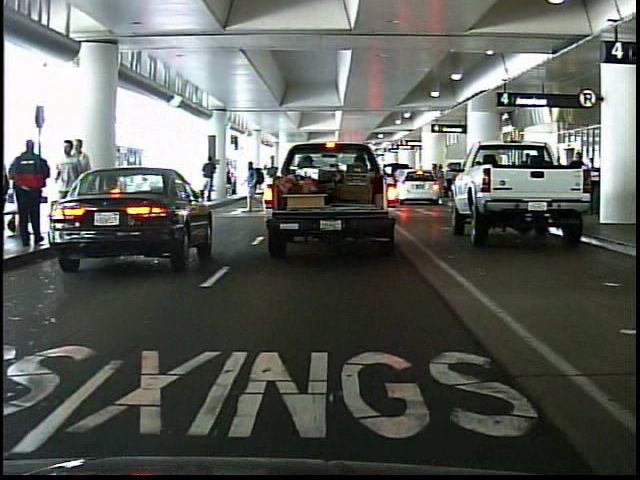person: (9, 135, 54, 253), (57, 137, 81, 238), (73, 133, 96, 234), (241, 159, 263, 214)
